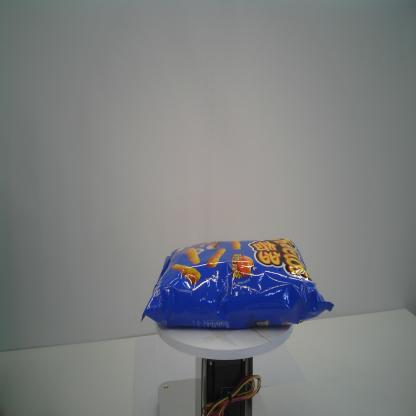Puffed Food: (139, 238, 334, 331)
